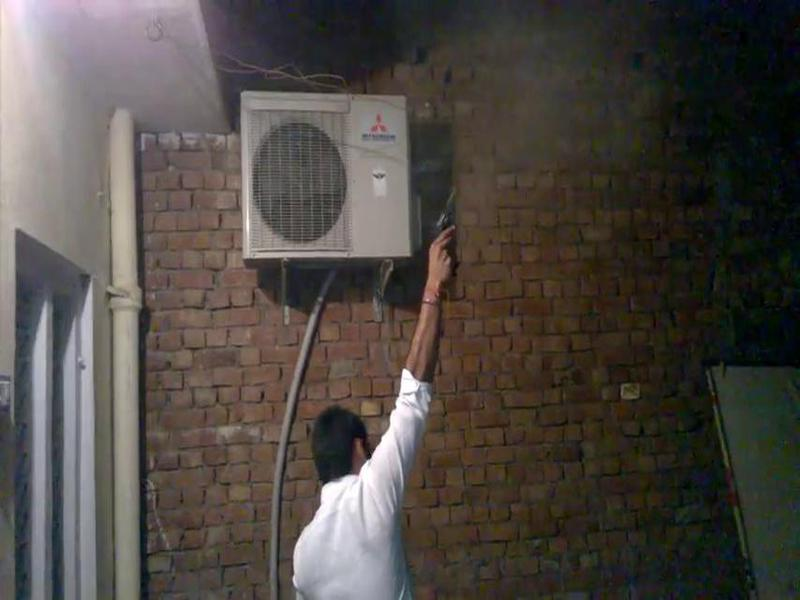Revolver: (426, 184, 482, 275)
